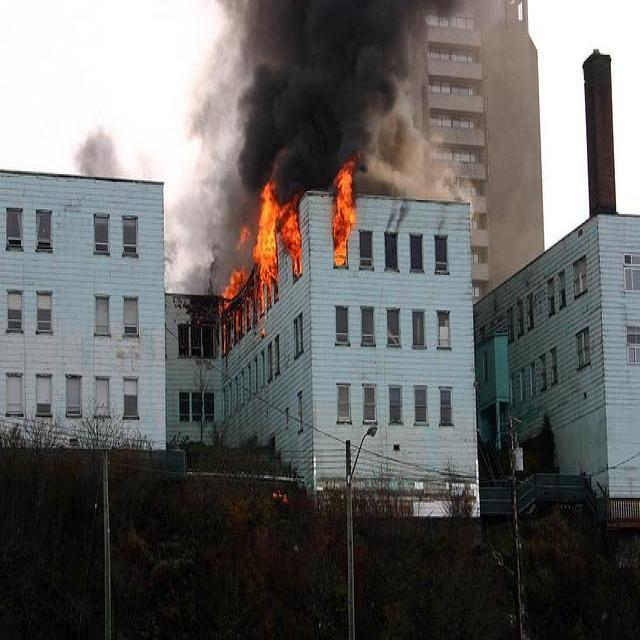Fire: (209, 188, 356, 293)
